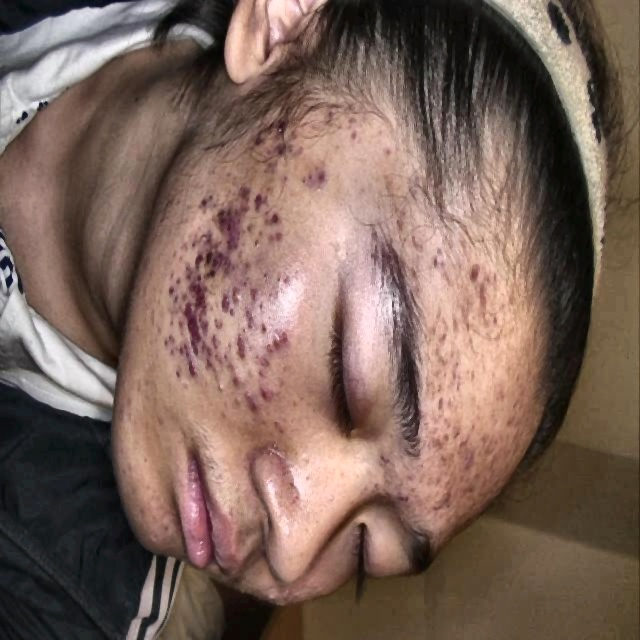nodule: (215, 197, 251, 241), (447, 351, 471, 399), (432, 388, 456, 431), (310, 156, 342, 188), (201, 352, 225, 394), (242, 122, 267, 157), (247, 290, 266, 334), (253, 374, 278, 407), (430, 238, 448, 279), (264, 318, 285, 353), (344, 110, 361, 153), (432, 481, 454, 513), (479, 427, 499, 462), (166, 330, 187, 363), (227, 366, 251, 394), (277, 265, 298, 297), (205, 320, 224, 355), (193, 186, 214, 217), (226, 274, 244, 310), (459, 430, 476, 468), (186, 326, 206, 358), (457, 475, 479, 504), (429, 428, 451, 456), (230, 324, 251, 353), (477, 284, 494, 319), (184, 347, 200, 384), (267, 112, 285, 143), (202, 243, 220, 274), (178, 266, 198, 293), (237, 261, 256, 289), (255, 345, 274, 373), (468, 255, 482, 291), (202, 222, 222, 247), (316, 102, 335, 128), (275, 141, 296, 164), (229, 295, 248, 320), (396, 478, 411, 509), (216, 287, 230, 320), (492, 375, 506, 407), (267, 229, 288, 250), (251, 226, 266, 254), (266, 201, 283, 224), (188, 251, 206, 272), (217, 253, 235, 274), (174, 353, 187, 382), (251, 185, 266, 207), (194, 289, 207, 311), (186, 230, 201, 249), (168, 280, 180, 301), (180, 304, 193, 322), (240, 180, 249, 199)
